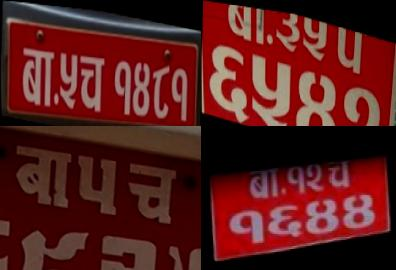1: (226, 203, 269, 248), (110, 54, 134, 117), (169, 60, 192, 123), (284, 159, 307, 197)
2: (88, 222, 161, 270), (339, 70, 384, 126), (304, 159, 326, 192)
3: (273, 8, 302, 55)
4: (292, 57, 339, 126), (301, 191, 340, 237), (340, 184, 375, 232), (131, 57, 152, 119)
5: (70, 146, 122, 218), (248, 47, 294, 126), (56, 47, 79, 113), (300, 12, 330, 62)
6: (204, 34, 252, 125), (267, 198, 305, 241)
7: (160, 230, 201, 270)
8: (148, 56, 172, 121)
9: (15, 213, 91, 270)
ba: (6, 135, 74, 210), (18, 43, 57, 112), (224, 3, 274, 48), (245, 159, 283, 199)
cha: (119, 151, 181, 228), (76, 50, 108, 115), (325, 151, 354, 189)
pa: (332, 20, 367, 74)
